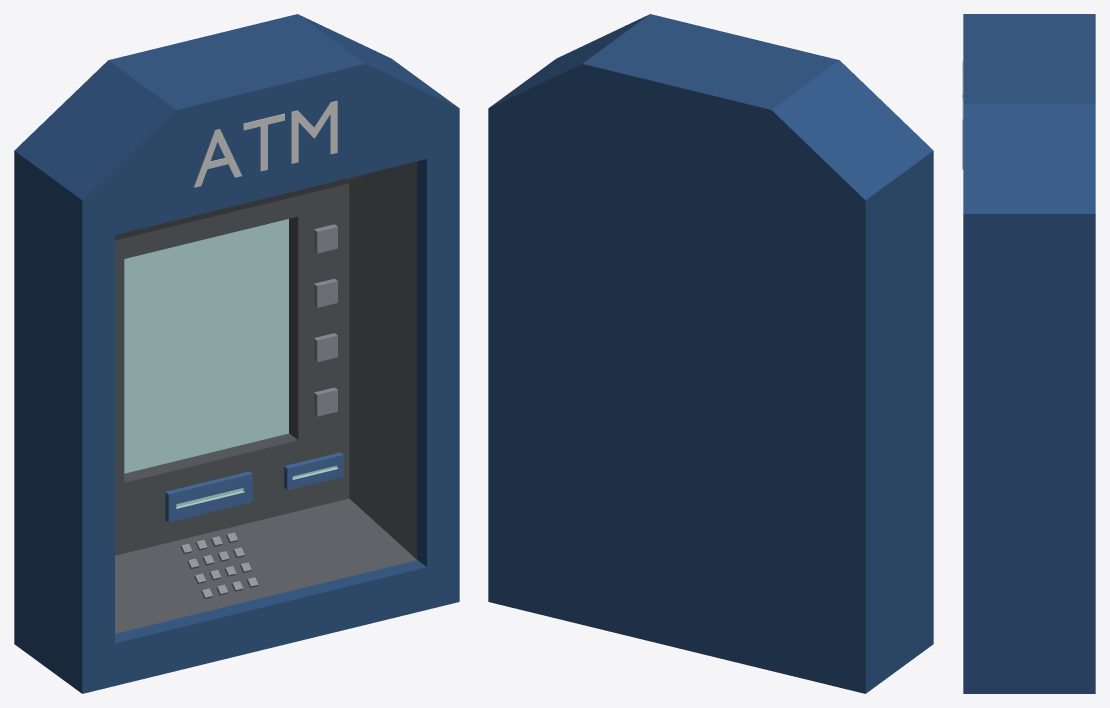
The model's file is ATM_01.fbx.
3 views of the same model, side by side, from view 1: azimuth 30°, elevation 25°; view 2: azimuth 150°, elevation 25°; view 3: azimuth 270°, elevation 25° (orthographic). The views are drawn at different scales.
Parts seen in each view (by area): view 1: ATM_01; view 2: ATM_01; view 3: ATM_01.
Boxes of the visible parts, left/top/right/bottom form: ATM_01: left=14, top=14, right=459, bottom=693; ATM_01: left=488, top=14, right=933, bottom=693; ATM_01: left=962, top=14, right=1095, bottom=693.
Bounding box in the file's own units: 61.42 × 87.28 × 19.33.
